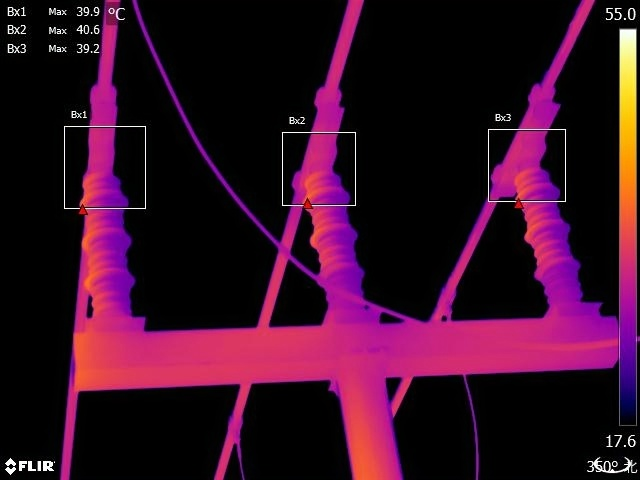clamp: (218, 402, 249, 452), (429, 280, 463, 320)
post insulator: (510, 160, 592, 310), (72, 171, 145, 314), (301, 171, 371, 310)
